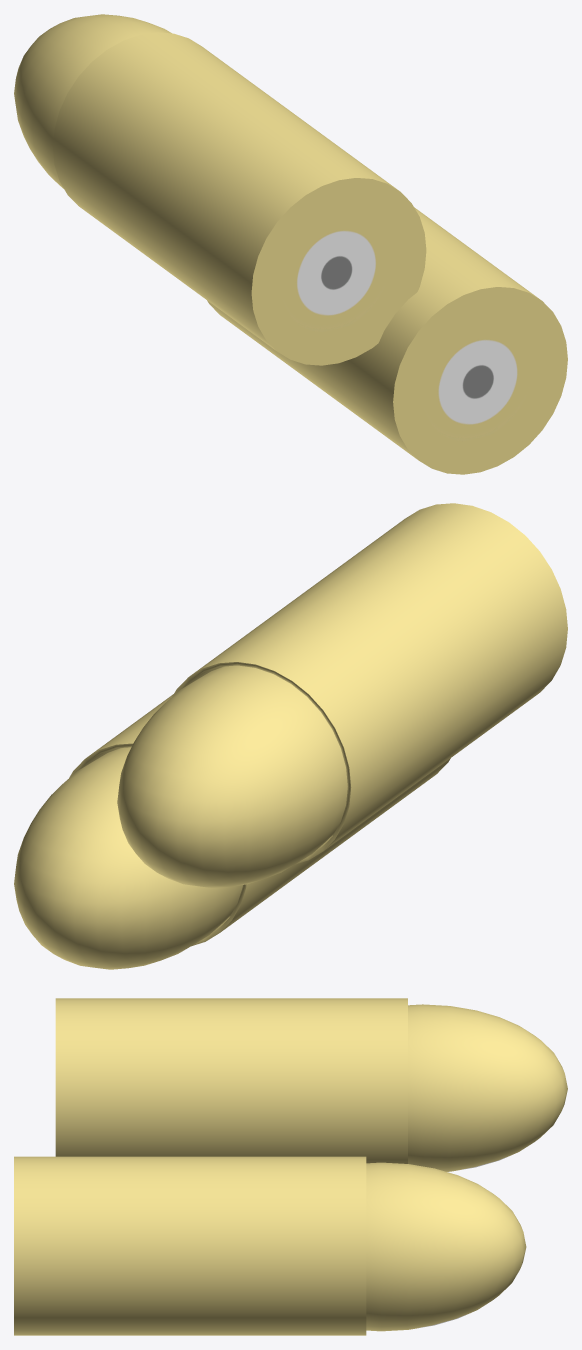
The model's file is Ammo9mmPickup.fbx.
3 views of the same model, one above another, from view 1: azimuth 30°, elevation 25°; view 2: azimuth 150°, elevation 25°; view 3: azimuth 270°, elevation 25° (orthographic). The views are drawn at different scales.
Parts seen in each view (by area): view 1: 9mm, 9mm (1), Sphere (1); view 2: Sphere (1) (×2), 9mm, 9mm (1); view 3: 9mm (1), 9mm, Sphere (1) (×2).
Part boxes in pixels (x1,y1,x2,y2): 9mm: (53,32,426,365); 9mm (1): (207,207,567,474); Sphere (1): (14,14,171,188); Sphere (1) (×2): (14,665,347,969); 9mm: (172,503,567,864); 9mm (1): (69,694,450,946); 9mm (1): (14,1156,366,1335); 9mm: (55,998,407,1163); Sphere (1) (×2): (366,1004,567,1331).
Size of what is drawn, in the model's own units: 0.048 by 0.0475 by 0.0886.
Materials: 1 (1 with a texture image).
